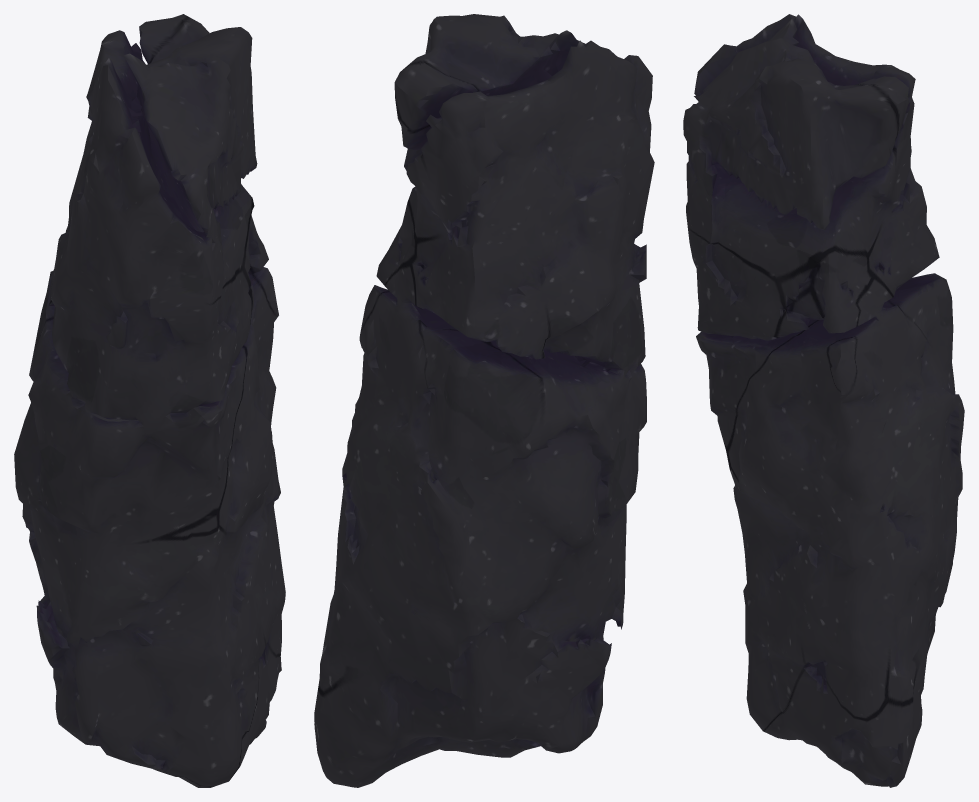
File: rock-elongated-shard.glb
The picture shows the model from 3 angles, left to right: view 1: azimuth 30°, elevation 25°; view 2: azimuth 150°, elevation 25°; view 3: azimuth 270°, elevation 25°; orthographic projection. The views are drawn at different scales.
Parts seen in each view (by area): view 1: Rock_C_ElongatedShard; view 2: Rock_C_ElongatedShard; view 3: Rock_C_ElongatedShard.
Boxes of the visible parts, x1,y1,x2,y2 form: Rock_C_ElongatedShard: (14, 14, 285, 787); Rock_C_ElongatedShard: (314, 14, 654, 787); Rock_C_ElongatedShard: (683, 14, 964, 787).
Bounding box in the file's own units: 0.5766 × 1.57 × 0.5783.
Materials: 1 (1 with a texture image).
